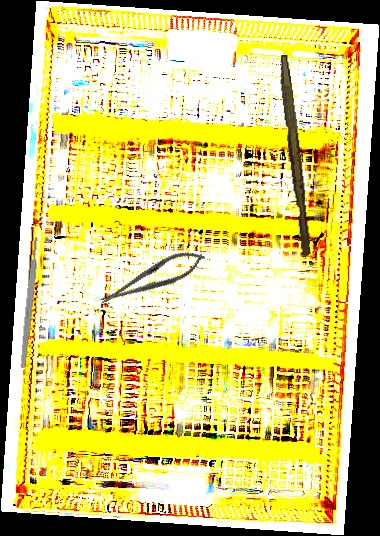Needle Holder: (94, 242, 210, 314)
Scalpel Handle: (273, 54, 316, 256), (19, 236, 40, 369)
